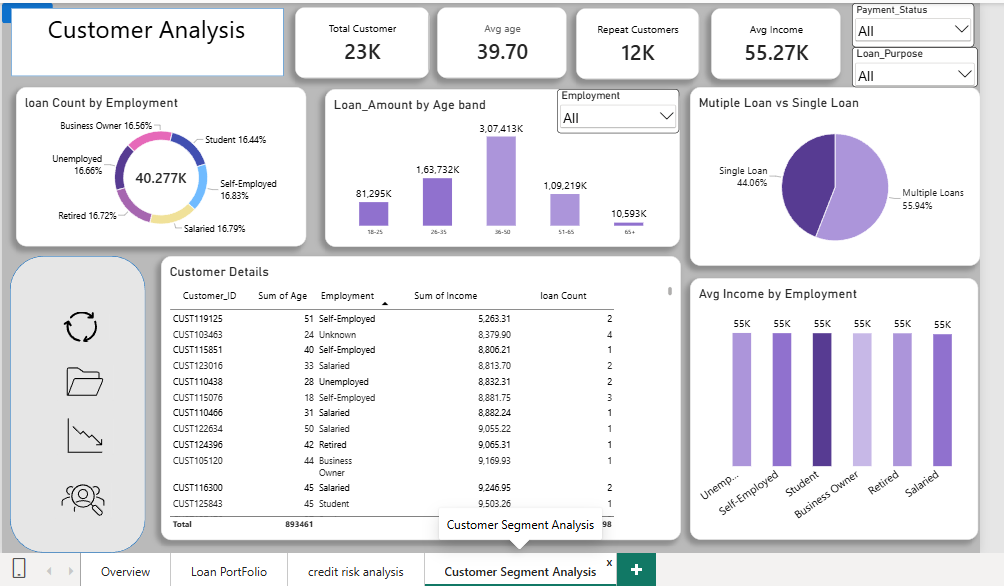

Layout of this report page (visuals, bound fields, positions):
{"tool":"powerbi","page":{"name":"Customer Segment Analysis","canvas":[1920,1080],"ordinal":3},"visuals":[{"type":"cardVisual","fields":{"Data":["Dim_Customers.Total Customer"]},"box":[576.2,8.5,263.7,140.3],"z":0},{"type":"shape","box":[14.9,497.4,265.8,582.6],"z":0,"group":"g2"},{"type":"cardVisual","fields":{"Data":["Dim_Customers.Avg age"]},"box":[854.8,8.5,255.1,140.3],"z":1000},{"type":"actionButton","box":[99.9,606.7,110.6,59.2],"z":1000,"group":"g2"},{"type":"cardVisual","fields":{"Data":["Dim_Customers.Avg Income"]},"box":[1392.7,10.6,255.1,140.3],"z":2000},{"type":"actionButton","box":[106.6,706.7,110.6,73.5],"z":2000,"group":"g2"},{"type":"cardVisual","fields":{"Data":["Dim_Customers.Repeat Customers"]},"box":[1126.9,10.6,242.4,140.3],"z":3000},{"type":"actionButton","box":[106.6,813.1,110.6,73.5],"z":3000,"group":"g2"},{"type":"clusteredColumnChart","title":"Loan_Amount by Age band","fields":{"Category":["Dim_Customers.Age_Band"],"Y":["Sum(Dim_Loans.Loan_Amount)"]},"box":[633.6,168,697.4,310.4],"z":4000},{"type":"actionButton","box":[102.3,938.3,110.6,73.5],"z":4000,"group":"g2"},{"type":"donutChart","title":"loan Count by Employment","fields":{"Category":["Fact_Loans.Employment"],"Y":["Fact_Loans.loan Count"]},"box":[27.6,165.8,569.8,312.6],"z":5000},{"type":"lineStackedColumnComboChart","title":"Avg Income by Employment","fields":{"Category":["Fact_Loans.Employment"],"Y":["Dim_Customers.Avg Income"]},"box":[1351,540,565.5,514.5],"z":6000},{"type":"actionButton","box":[0,0,100,40],"z":7000},{"type":"pieChart","title":"Mutiple Loan vs Single Loan","fields":{"Category":["Dim_Customers.Customer_Loan_Type"],"Y":["Count(Dim_Customers.Customer_ID)"]},"box":[1350.2,165.8,569.8,350.8],"z":8000},{"type":"tableEx","title":"Customer Details","fields":{"Values":["Dim_Customers.Customer_ID","Sum(Dim_Customers.Age)","Dim_Customers.Employment","Sum(Dim_Customers.Income)","Fact_Loans.loan Count"]},"box":[312.2,496.8,1021.1,557.7],"z":9000},{"type":"slicer","fields":{"Values":["Fact_Loans.Employment"]},"box":[1090.8,168,240.3,87.2],"z":10000},{"type":"slicer","fields":{"Values":["Fact_Loans.Loan_Purpose"]},"box":[1669.1,87.2,246.6,78.7],"z":11000},{"type":"slicer","fields":{"Values":["Fact_Loans.Payment_Status"]},"box":[1669.1,0,240.3,87.2],"z":12000},{"type":"shape","box":[17,10.6,535.8,134],"z":13000,"group":"g1"},{"type":"textbox","box":[51,19.1,465.6,125.4],"z":14000,"group":"g1"},{"type":"group","id":"g1","title":"Group 1","box":[17,10.6,535.8,134],"z":14001},{"type":"group","id":"g2","title":"Group 2","box":[14.9,497.4,265.8,582.6],"z":14002}]}

Visuals, with their boxes on the page's 1920x1080 design canvas (x1, y1, x2, y2). These are canvas units, not pixel positions in the 1004x586 screenshot, which may show the page scaled, cropped or inside an application window:
cardVisual - Dim_Customers.Total Customer: bbox(576, 8, 840, 149)
shape: bbox(15, 497, 281, 1080)
cardVisual - Dim_Customers.Avg age: bbox(855, 8, 1110, 149)
actionButton: bbox(100, 607, 210, 666)
cardVisual - Dim_Customers.Avg Income: bbox(1393, 11, 1648, 151)
actionButton: bbox(107, 707, 217, 780)
cardVisual - Dim_Customers.Repeat Customers: bbox(1127, 11, 1369, 151)
actionButton: bbox(107, 813, 217, 887)
"Loan_Amount by Age band" clusteredColumnChart: bbox(634, 168, 1331, 478)
actionButton: bbox(102, 938, 213, 1012)
"loan Count by Employment" donutChart: bbox(28, 166, 597, 478)
"Avg Income by Employment" lineStackedColumnComboChart: bbox(1351, 540, 1916, 1054)
actionButton: bbox(0, 0, 100, 40)
"Mutiple Loan vs Single Loan" pieChart: bbox(1350, 166, 1920, 517)
"Customer Details" tableEx: bbox(312, 497, 1333, 1054)
slicer - Fact_Loans.Employment: bbox(1091, 168, 1331, 255)
slicer - Fact_Loans.Loan_Purpose: bbox(1669, 87, 1916, 166)
slicer - Fact_Loans.Payment_Status: bbox(1669, 0, 1909, 87)
shape: bbox(17, 11, 553, 145)
textbox: bbox(51, 19, 517, 144)
"Group 1" group: bbox(17, 11, 553, 145)
"Group 2" group: bbox(15, 497, 281, 1080)
